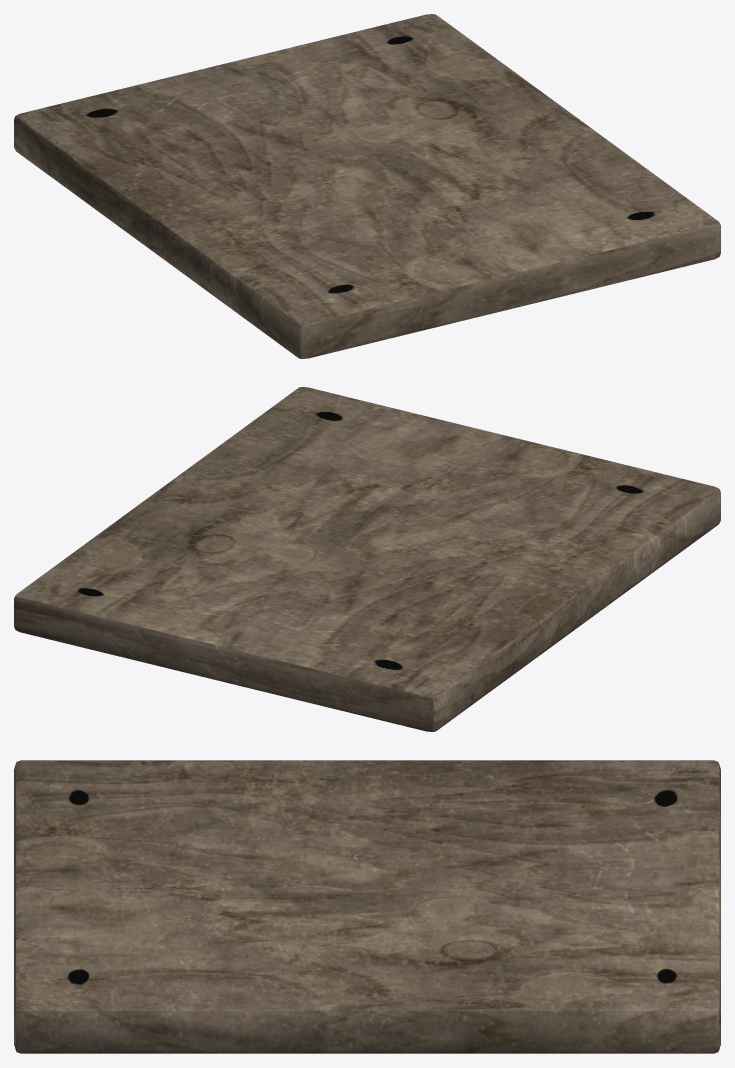
The picture shows the model from 3 angles, top to bottom: view 1: azimuth 30°, elevation 25°; view 2: azimuth 150°, elevation 25°; view 3: azimuth 270°, elevation 25°; orthographic projection. The views are drawn at different scales.
Visible parts, largest first — view 1: Box016_Material_0_0; view 2: Box016_Material_0_0; view 3: Box016_Material_0_0.
Part boxes in pixels (<box>): Box016_Material_0_0: <box>14,14,720,358</box>; Box016_Material_0_0: <box>14,387,720,731</box>; Box016_Material_0_0: <box>14,760,720,1053</box>.
Bounding box in the file's own units: 0.4403 × 0.0375 × 0.5196.
Materials: 1 (1 with a texture image).
